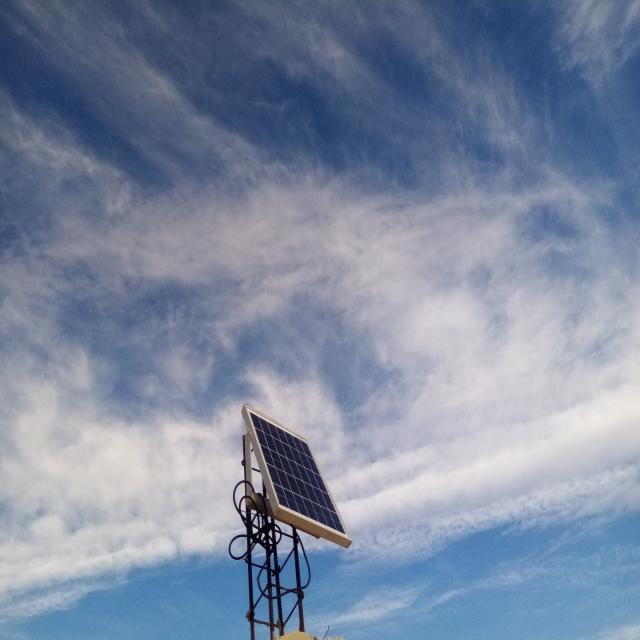no faulty: (245, 405, 352, 541)
